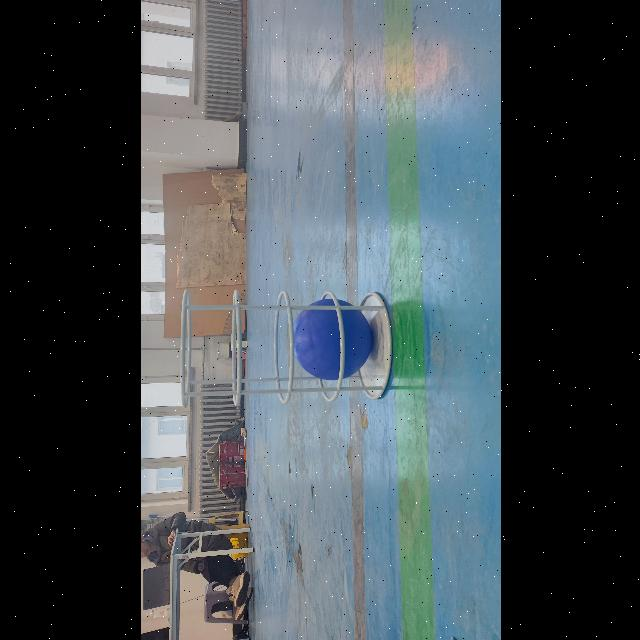B: (290, 298, 372, 379)
S: (174, 284, 396, 408)
